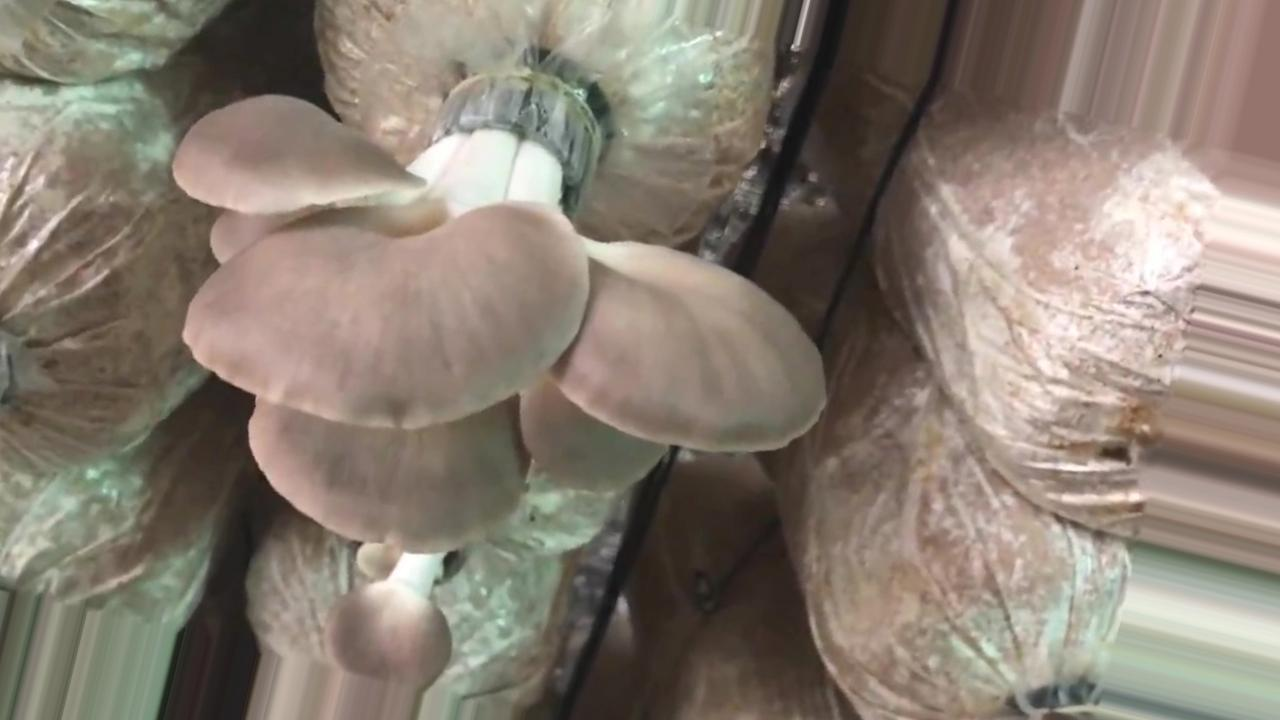nam: (174, 77, 823, 554), (326, 542, 470, 720)
